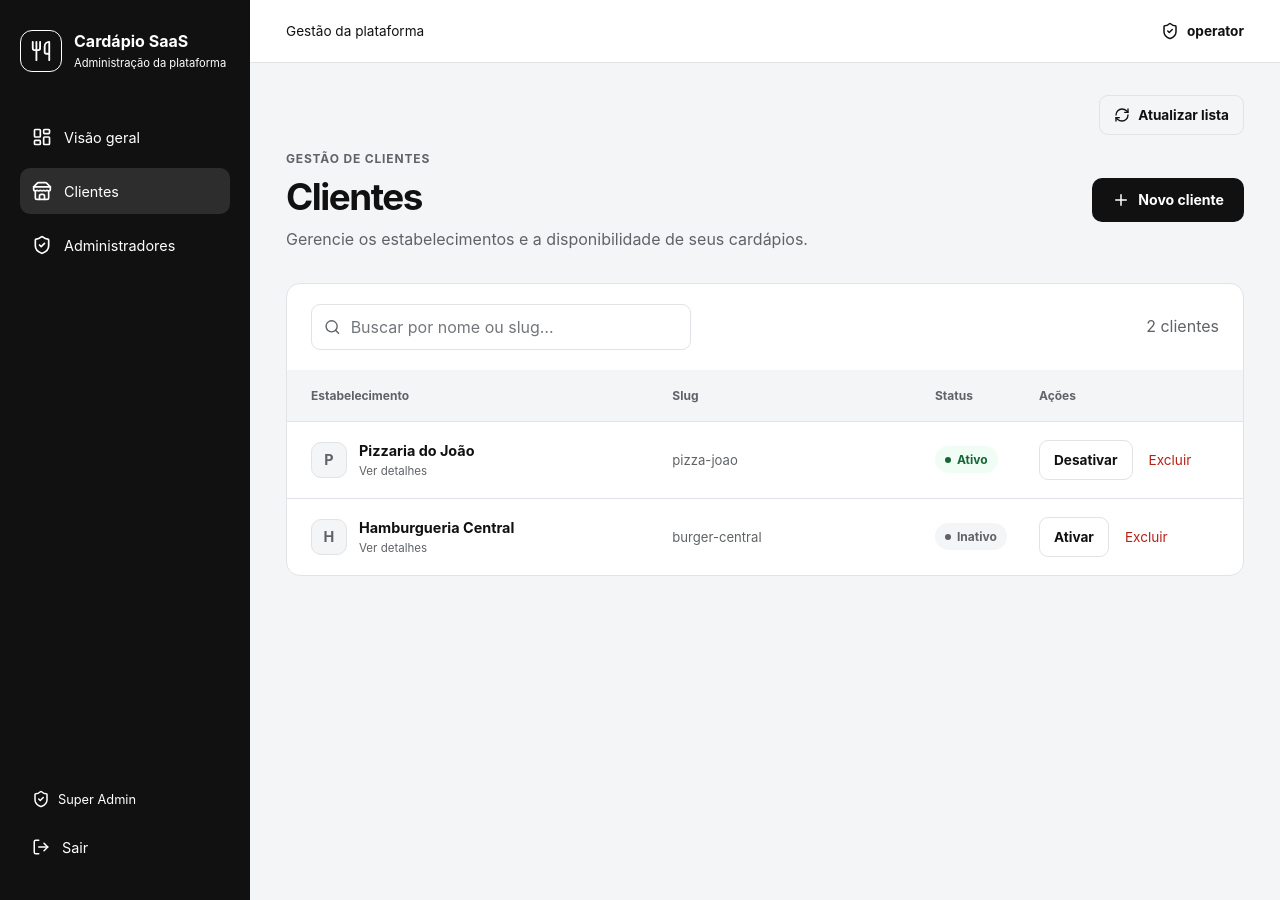
Test case: platform management › keeps the previous status and displays activation failures
Expected: the text "Hamburgueria Central" is shown, [359,519,514,536]
Click the button with aria-label "Ativar Hamburgueria Central": (1074, 537) [1039,517,1109,557]
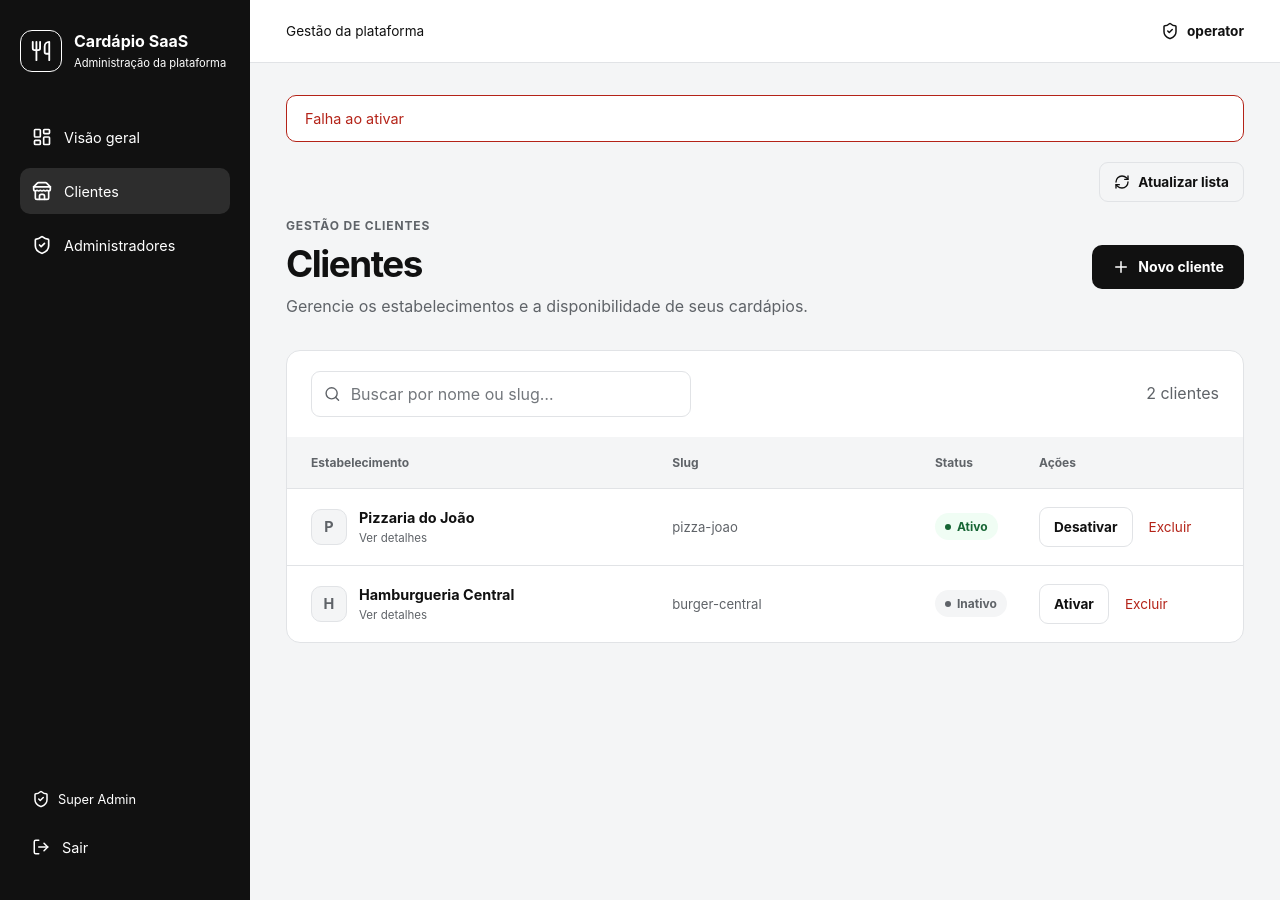
Expected: the text "Inativo" is shown, [935,590,1007,617]
Result: the message "Falha ao ativar" is shown at [286,95,1244,142]
